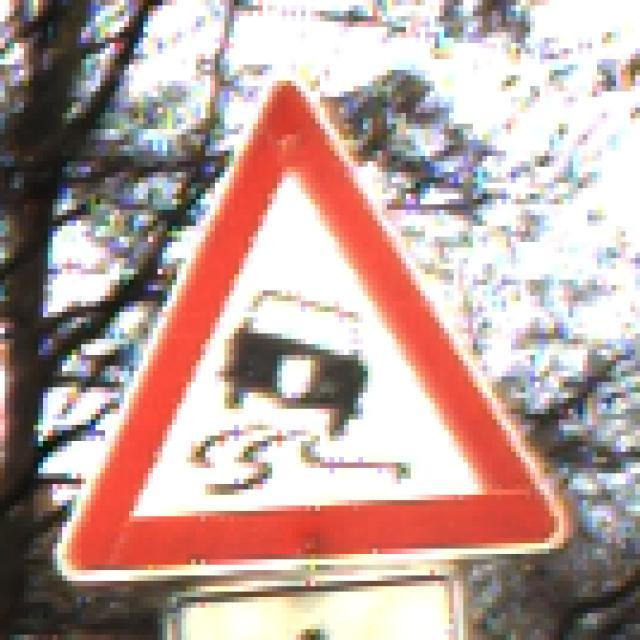slippery road: (57, 77, 563, 590)
